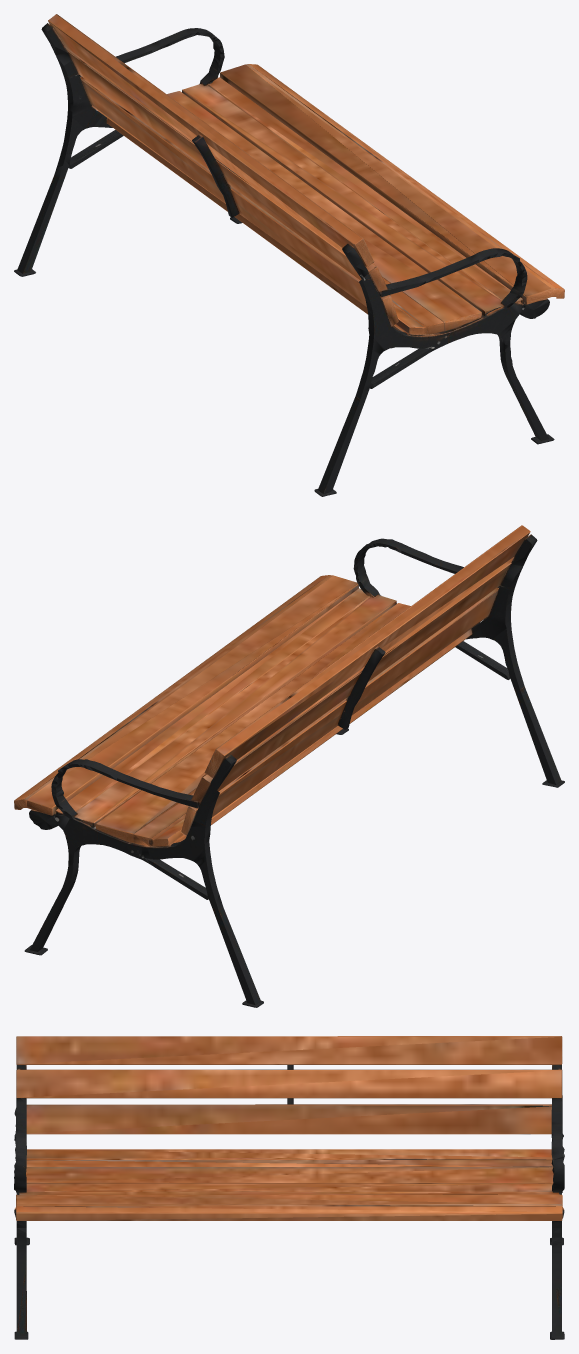
The model's file is bench.glb.
The picture shows the model from 3 angles, top to bottom: view 1: azimuth 30°, elevation 25°; view 2: azimuth 150°, elevation 25°; view 3: azimuth 270°, elevation 25°; orthographic projection. The views are drawn at different scales.
Visible parts, largest first — view 1: Mesh_0; view 2: Mesh_0; view 3: Mesh_0.
Part boxes in pixels (x1=…): Mesh_0: x1=14, y1=14, x2=564, y2=496; Mesh_0: x1=14, y1=525, x2=564, y2=1007; Mesh_0: x1=14, y1=1036, x2=564, y2=1339.
Bounding box in the file's own units: 0.8206 × 0.7957 × 1.8.
Materials: 1 (1 with a texture image).
